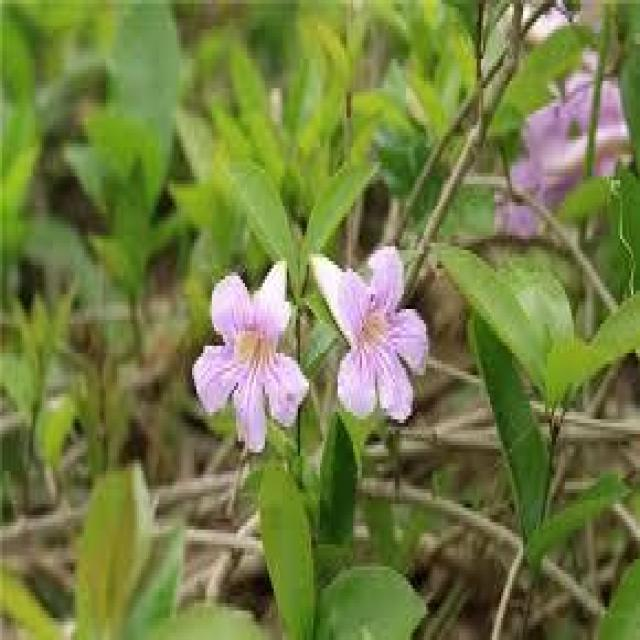organic waste: (185, 252, 318, 447), (308, 235, 436, 416)
